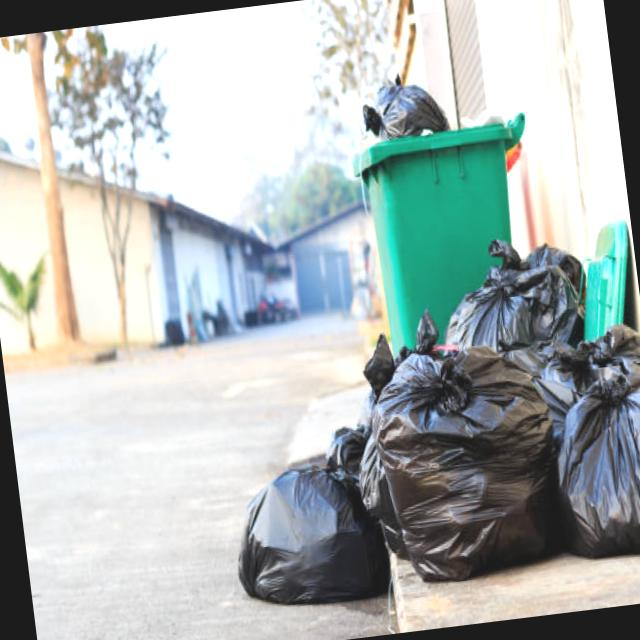garbage: (171, 37, 640, 622)
